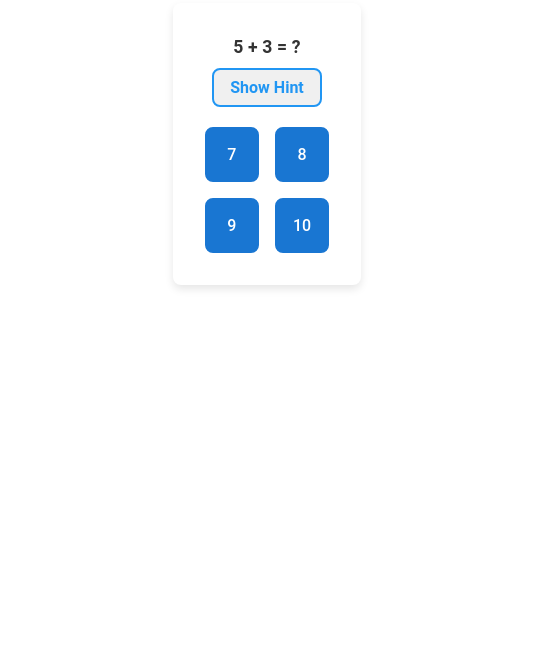
Test: QuestionCard › toggles hint visibility when hint button is clicked
Note: show hint
What coordinates should you click on to do the following:
click the button with test id "hint-button"
I would click on:
 (267, 87)
Its box is [212,68,322,107].
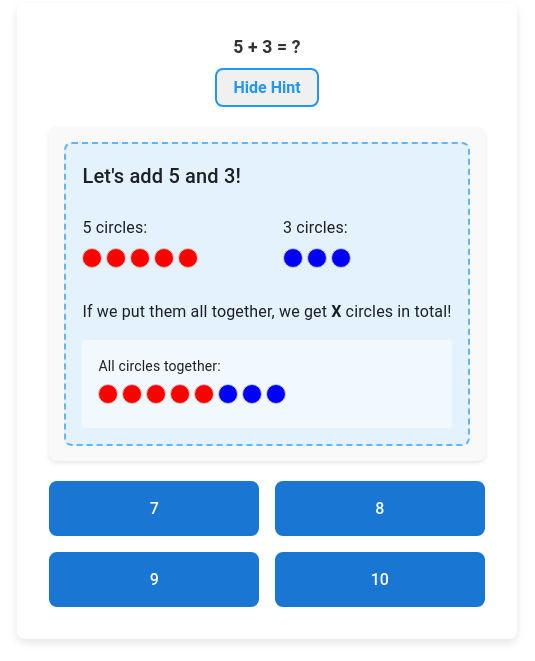
Check: the element with test id "hint-container" that starts with "Let's add" is shown, box [50,127,485,461]
Check: the button "Hide Hint" is shown
Note: hide hint
What coordinates should you click on to do the following:
click the button with test id "hint-button"
I would click on:
 (267, 87)
Its box is [215,68,318,107].
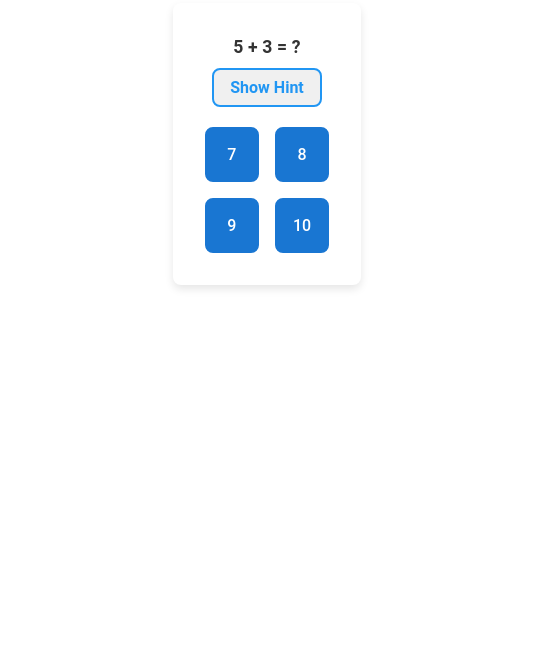
Check: the button "Show Hint" is shown, box [212,68,322,107]
